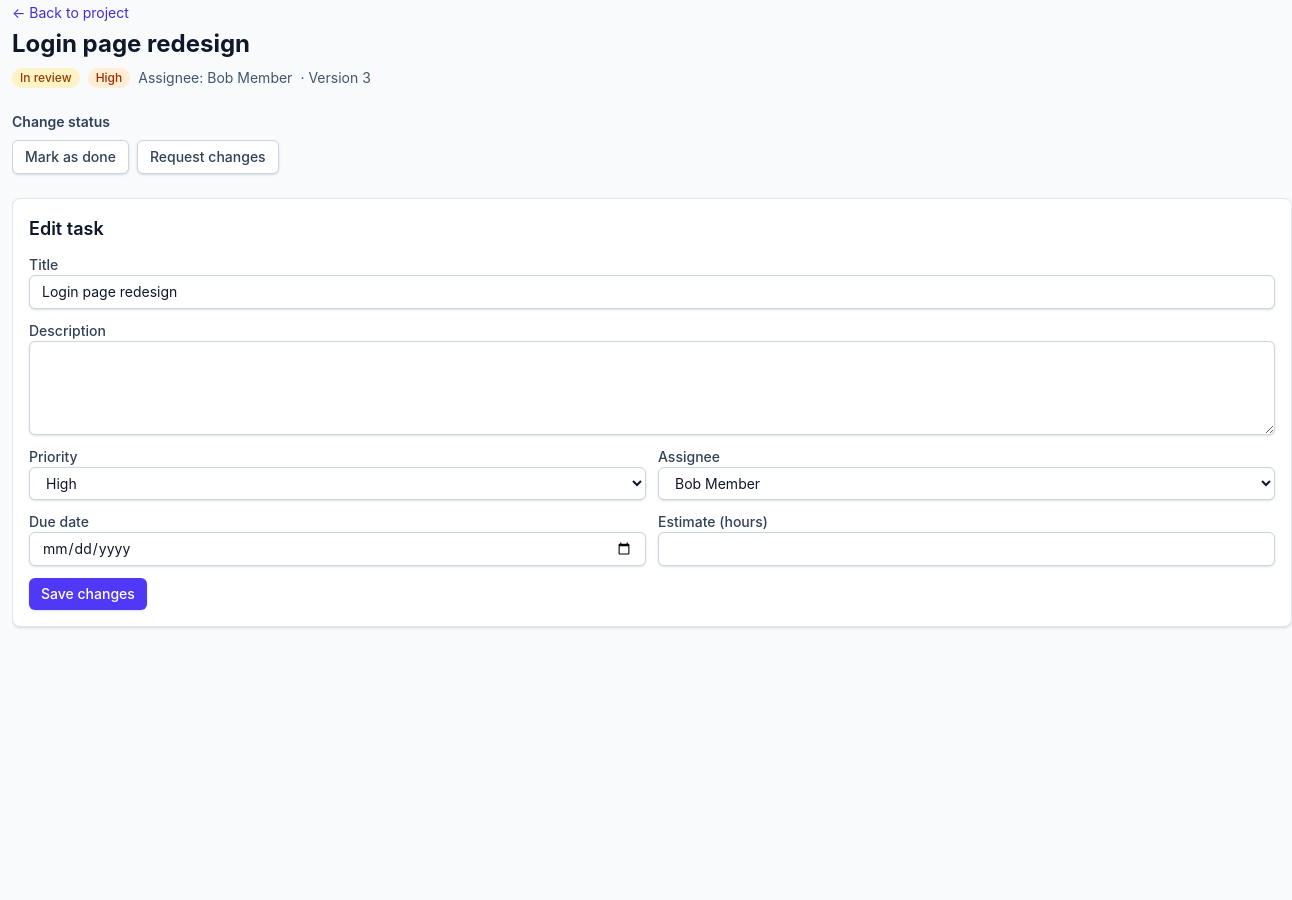
Test: TaskDetail › tells the user when someone else changed the task (409) and reloads it
The image size is (1292, 900).
Type "!" into the field labelled "Title" at [652, 292], box left=29, top=275, right=1275, bottom=309
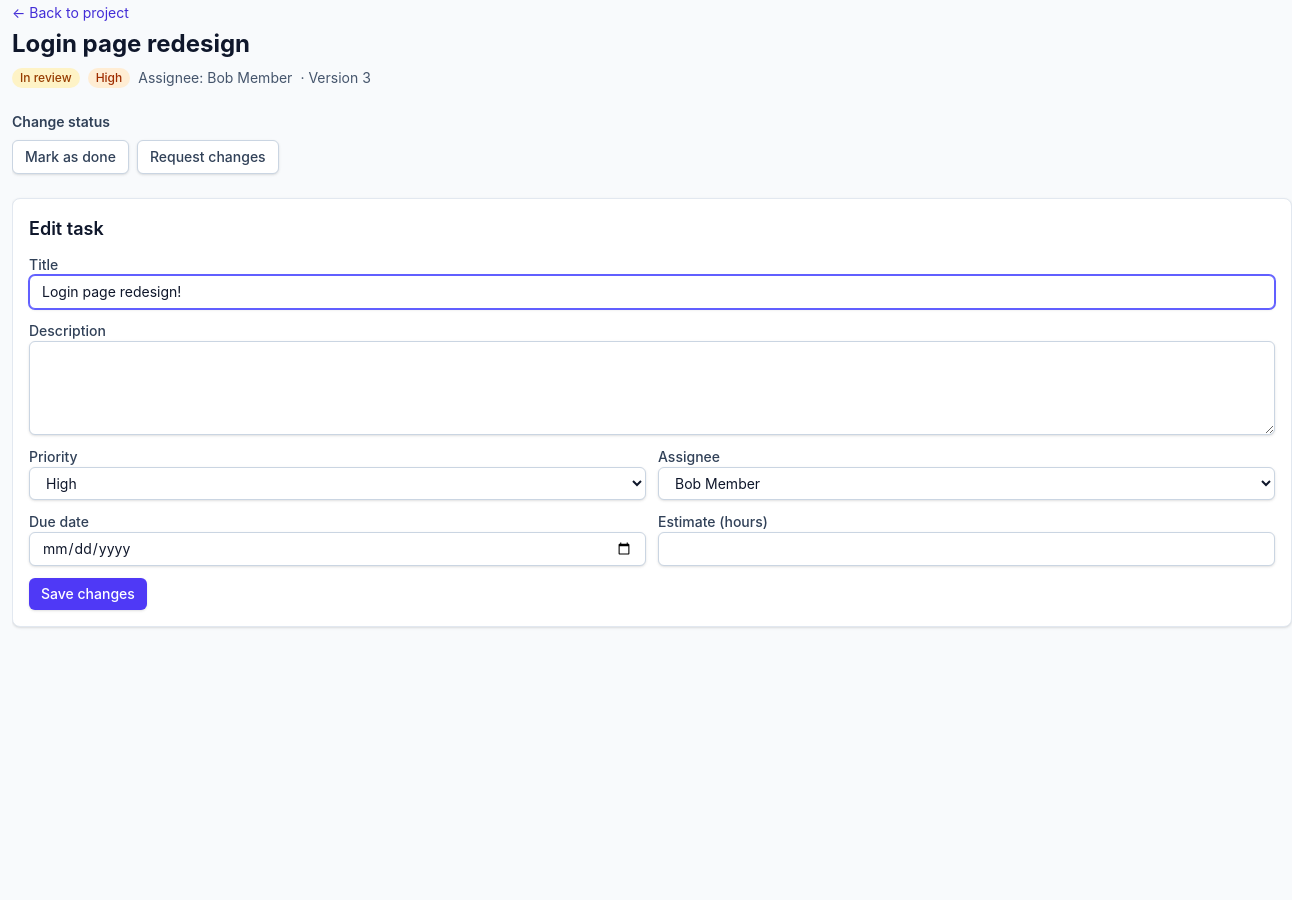
Click the button "Save changes" at [88, 594], box left=29, top=578, right=147, bottom=610
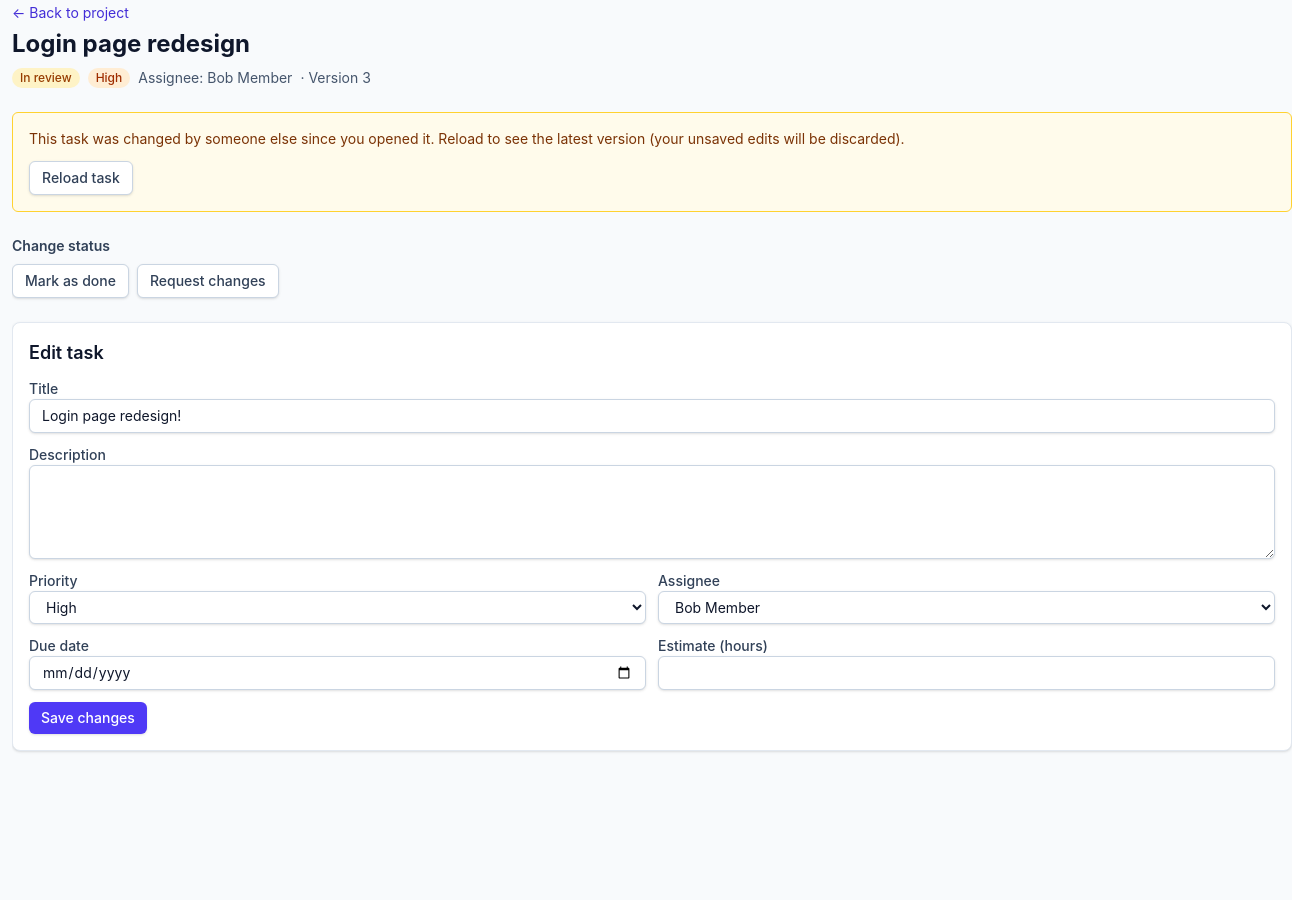
Check: the message shows "This task was changed by someone else since you opened it", box left=29, top=130, right=905, bottom=147
Click the button "Reload task" at [81, 178], box left=29, top=161, right=133, bottom=195
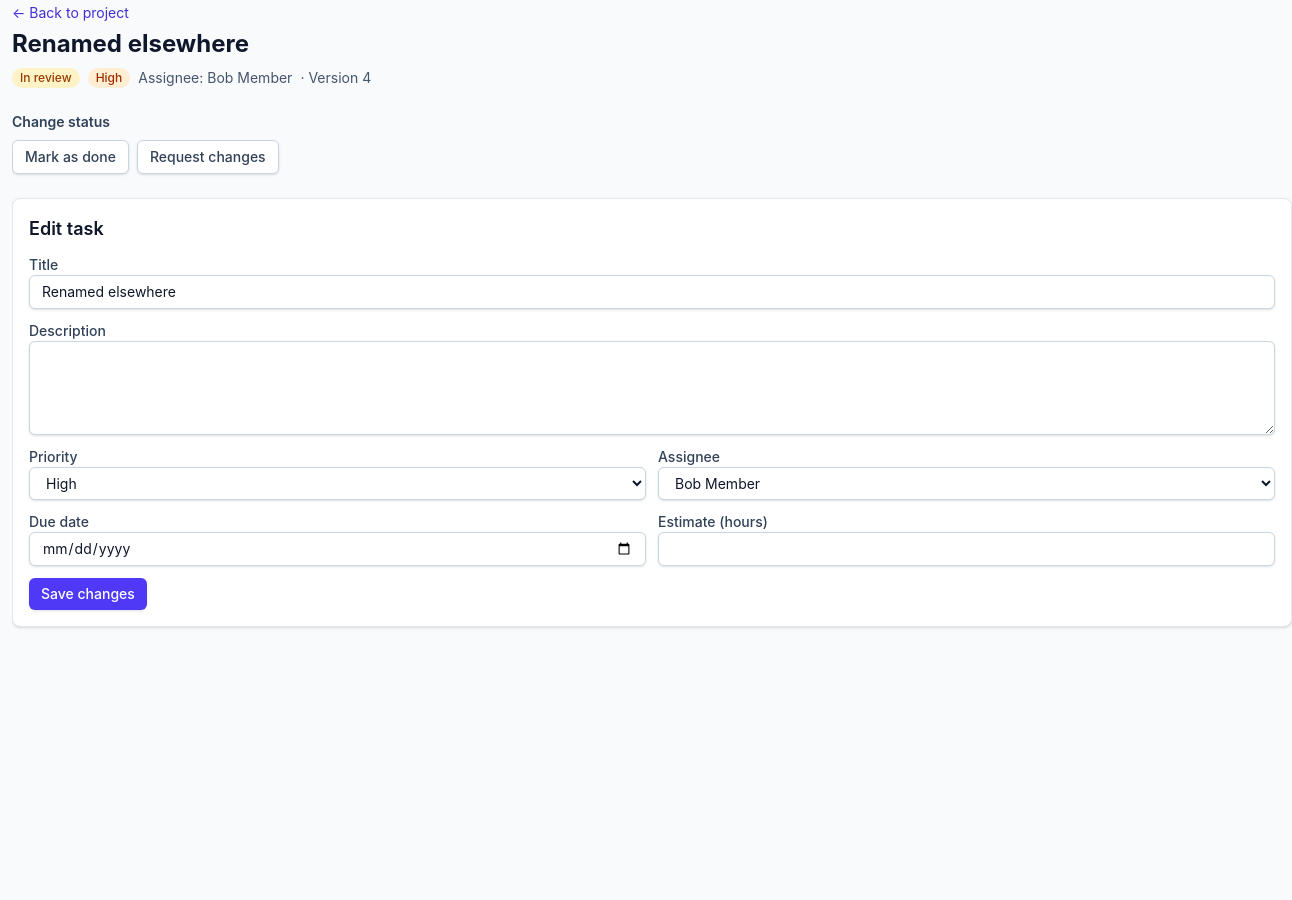
Check: the heading "Renamed elsewhere" is shown, box left=12, top=29, right=249, bottom=58
Check: the field labelled "Title" holds "Renamed elsewhere", box left=29, top=275, right=1275, bottom=309
Check: the message is gone
